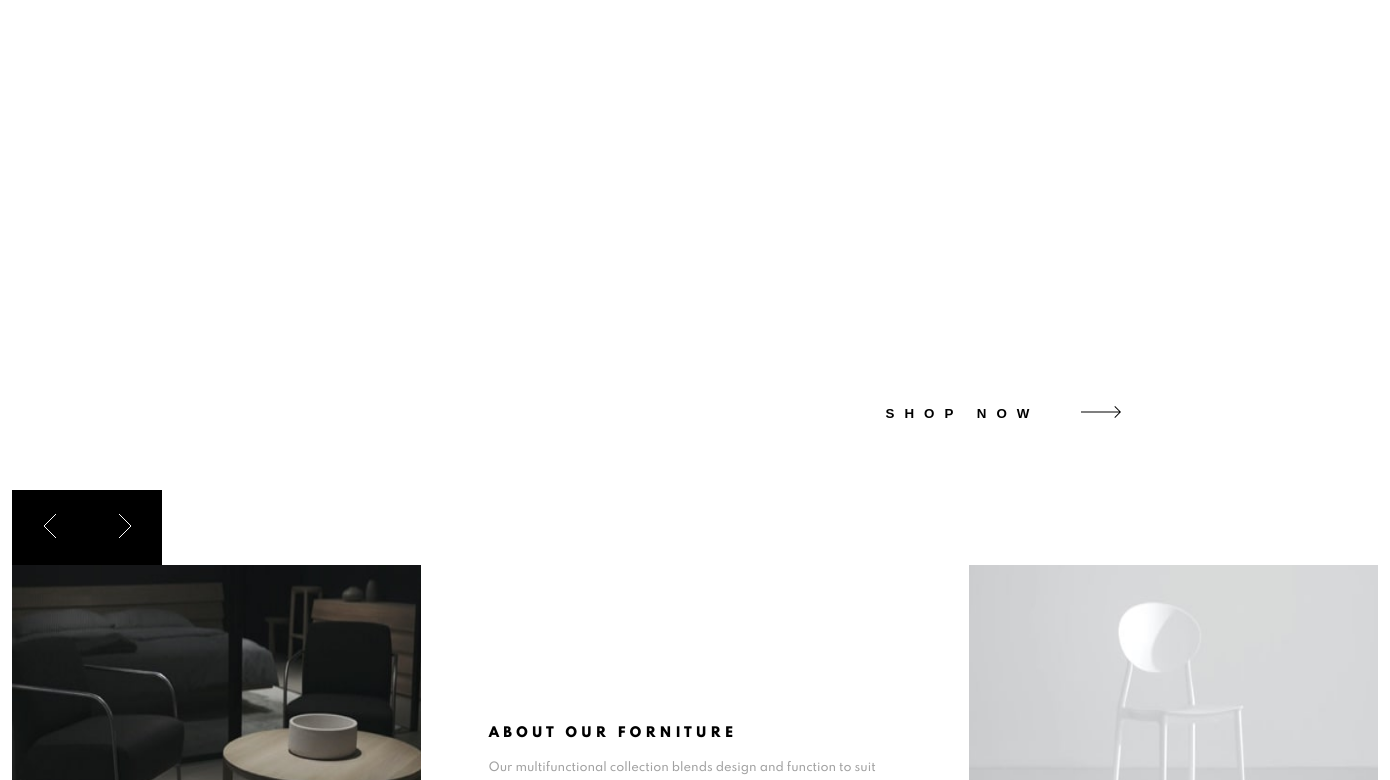
Scenario: slider changes tests › should description change to the previous when click previous slider toggler
Step 1. Click the 1st button named "left angle icon" → (50, 528), box [12,490,87,565]
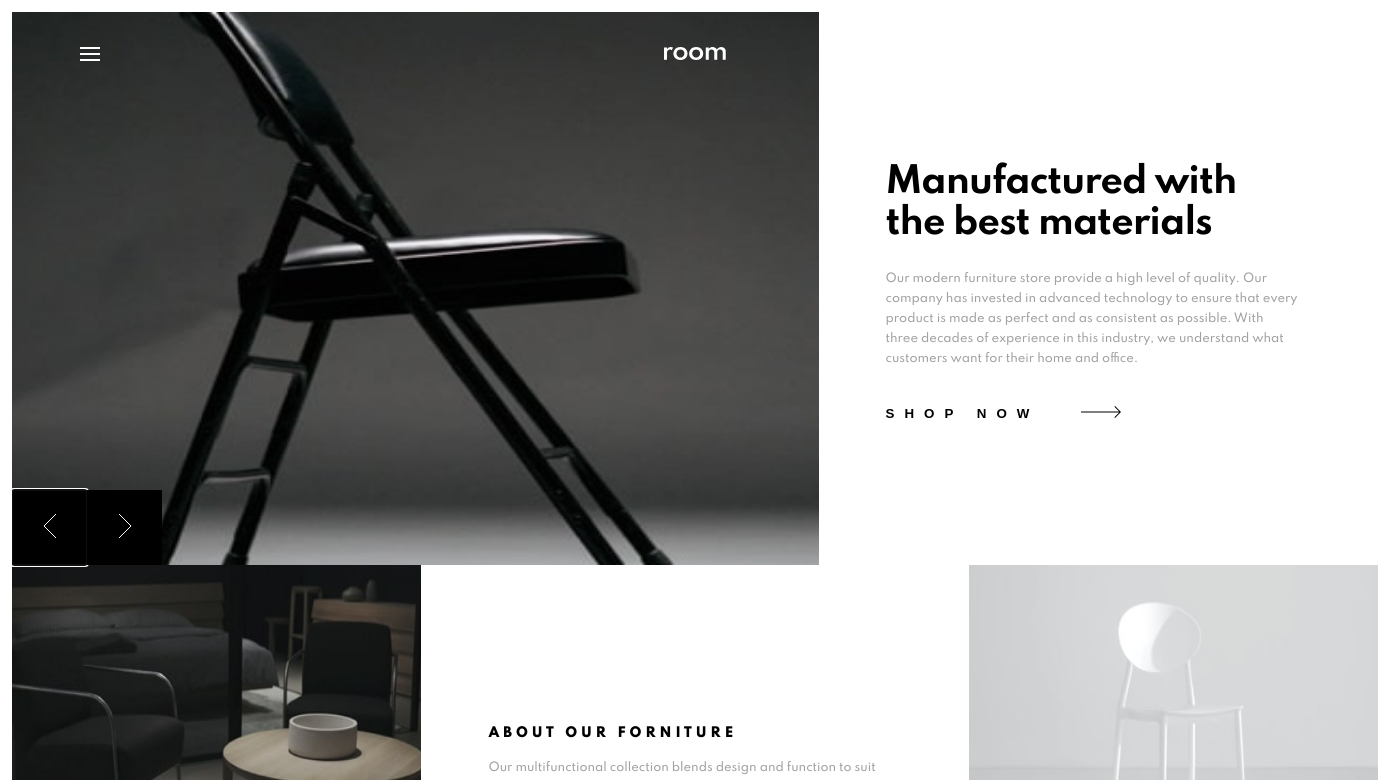
Now the heading titled "slider title" reads "Manufactured with the best materials", box [886,163,1236,243]
Now the text titled "slider description" shows "Our modern furniture store provide a high level of quality. Our company has invested in advanced technology to ensure that every product is made as perfect and", box [886,272,1297,365]
